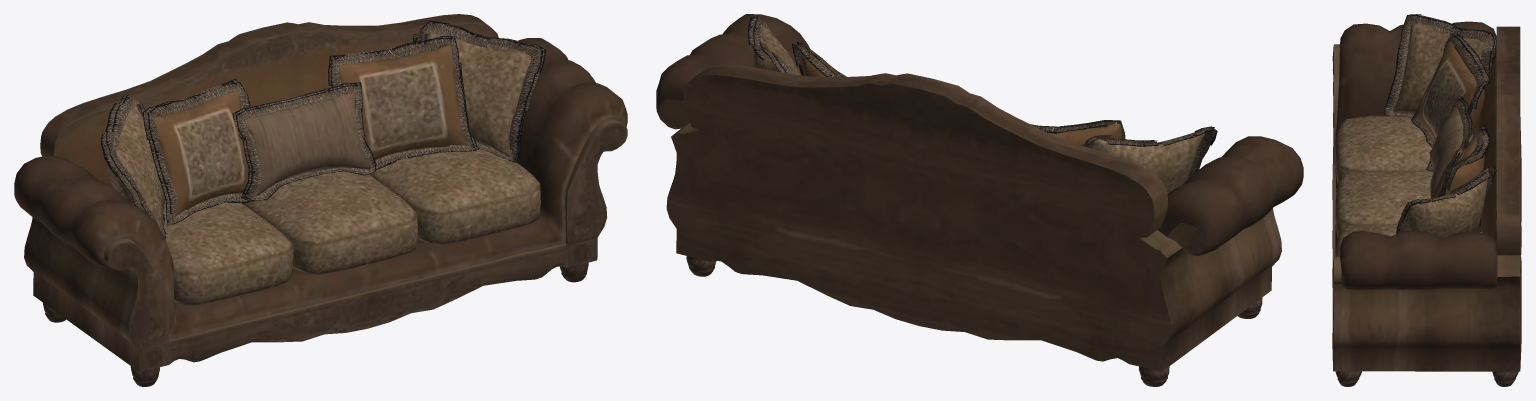
Rendered from sofa_03.glb.
The picture shows the model from 3 angles, left to right: view 1: azimuth 30°, elevation 25°; view 2: azimuth 150°, elevation 25°; view 3: azimuth 270°, elevation 25°; orthographic projection. The views are drawn at different scales.
Visible parts, largest first — view 1: sofa_03; view 2: sofa_03; view 3: sofa_03.
Part boxes in pixels (x1,y1,x2,y2): sofa_03: (14, 14, 627, 386); sofa_03: (656, 14, 1303, 386); sofa_03: (1332, 14, 1521, 386).
Size of the model in its own units: 2.73 by 1.12 by 0.925.
2 materials, 2 textured.
